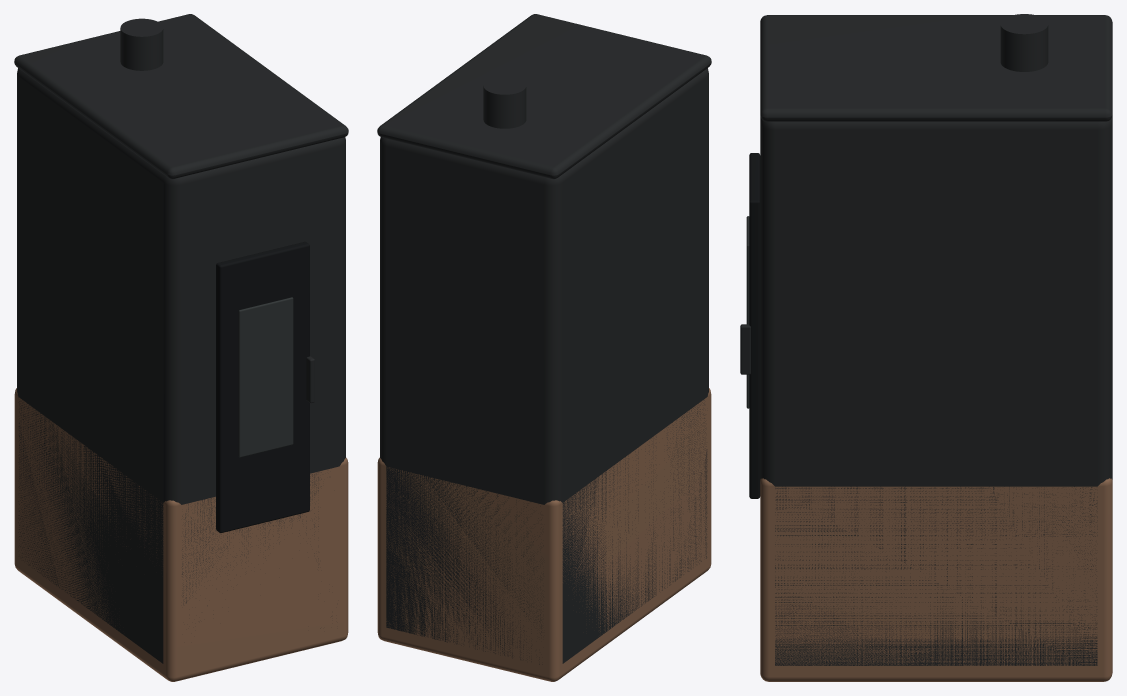
The model's file is ravelli-alfa-s-nero.glb.
3 views of the same model, side by side, from view 1: azimuth 30°, elevation 25°; view 2: azimuth 150°, elevation 25°; view 3: azimuth 270°, elevation 25° (orthographic). The views are drawn at different scales.
Visible parts, largest first — view 1: Corpo.001, Pannello inferiore, Coperchio.001, Cornice porta.001, Vetro sportello.001, Attacco fumi; view 2: Corpo.001, Pannello inferiore, Coperchio.001, Attacco fumi; view 3: Corpo.001, Pannello inferiore, Coperchio.001, Cornice porta.001, Attacco fumi, Vetro sportello.001.
Part boxes in pixels (x1,y1,x2,y2): Corpo.001: (17,68,345,663); Pannello inferiore: (14,388,348,681); Coperchio.001: (14,14,348,179); Cornice porta.001: (216,241,309,532); Vetro sportello.001: (238,297,293,457); Attacco fumi: (120,18,163,70); Corpo.001: (380,68,708,664); Pannello inferiore: (377,388,711,681); Coperchio.001: (377,14,711,179); Attacco fumi: (483,76,526,128); Corpo.001: (760,115,1112,665); Pannello inferiore: (760,478,1112,681); Coperchio.001: (760,15,1112,121); Cornice porta.001: (749,153,760,498); Attacco fumi: (1000,14,1048,71); Vetro sportello.001: (746,216,749,408).
Bounding box in the file's own units: 0.39 × 1.13 × 0.623.
